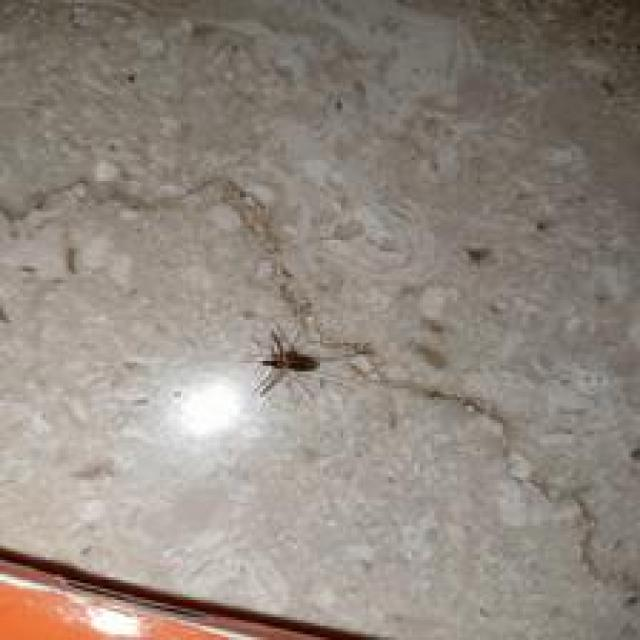Culex: (253, 326, 321, 397)
